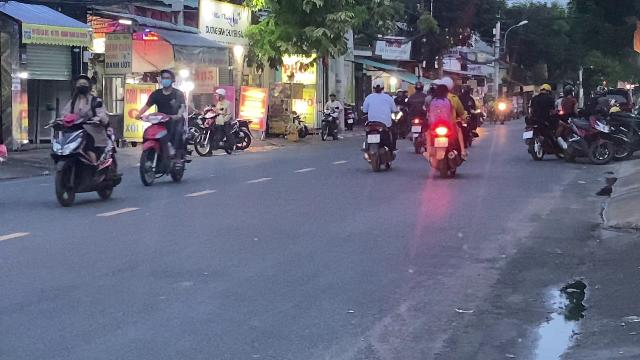helmet: (73, 73, 91, 93), (158, 68, 174, 88), (437, 77, 453, 90), (371, 77, 385, 91)
licenseplate: (434, 138, 448, 146), (368, 134, 380, 142)
motorcyclist: (47, 72, 123, 206), (136, 68, 192, 186), (426, 75, 468, 177), (360, 78, 400, 170)
nohelmet: (430, 82, 448, 100)
